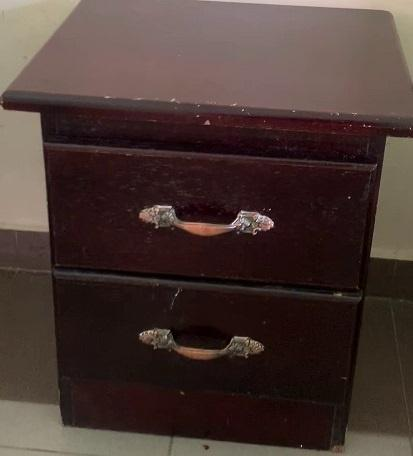cabinet_door: (51, 156, 369, 280), (59, 277, 356, 389)
handle: (134, 199, 277, 243), (139, 327, 263, 368)
